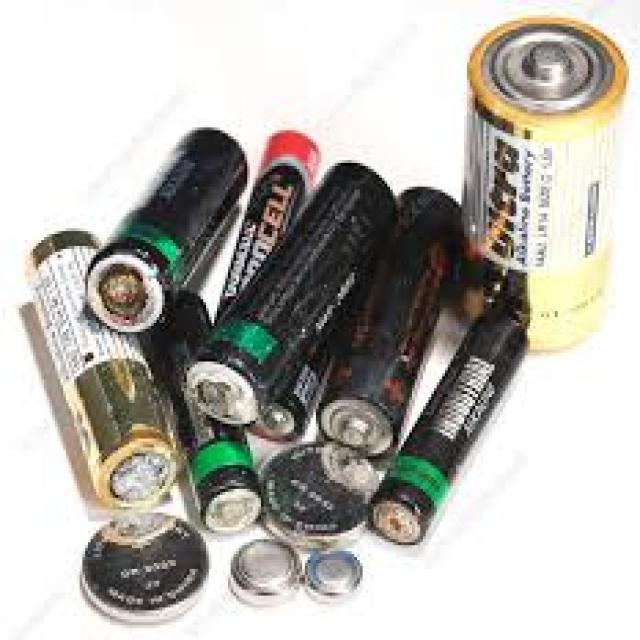non-organic waste: (191, 164, 399, 430), (464, 20, 626, 349), (28, 217, 179, 515), (313, 185, 476, 456), (372, 302, 540, 544), (92, 125, 254, 331), (139, 291, 273, 539), (216, 131, 332, 315)
